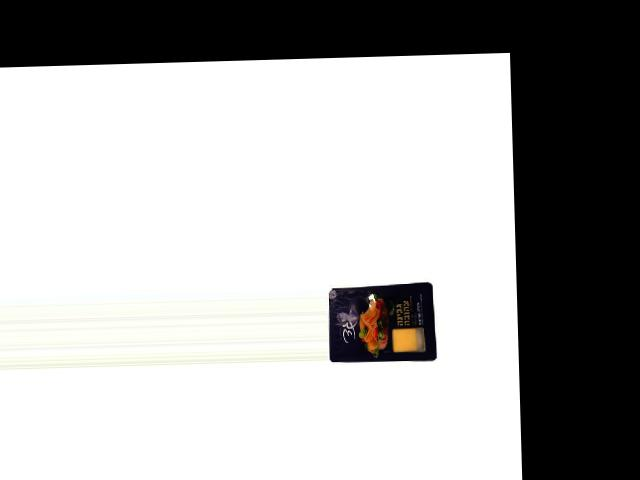cheese: (326, 279, 436, 363)
